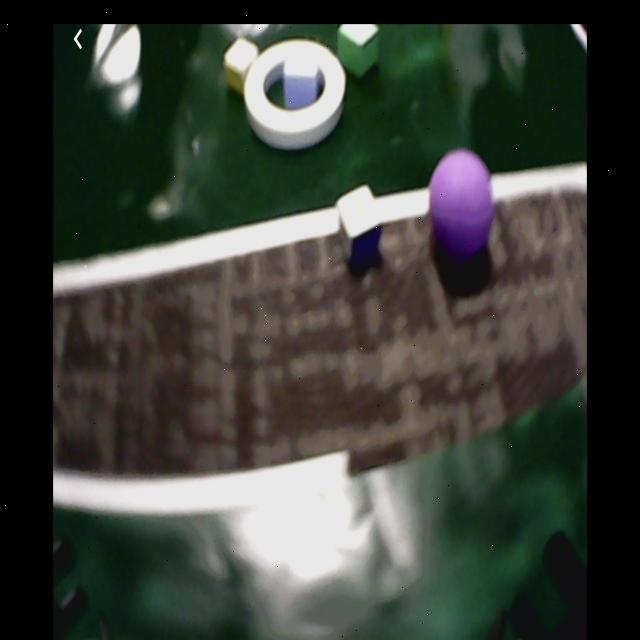ball: (431, 149, 494, 264)
